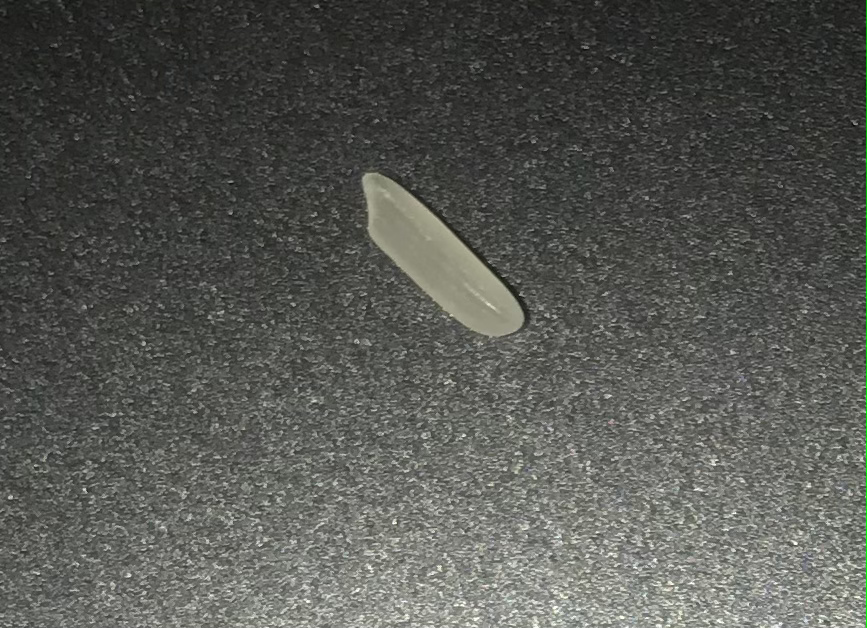Gao Long Lai: (350, 152, 535, 345)
